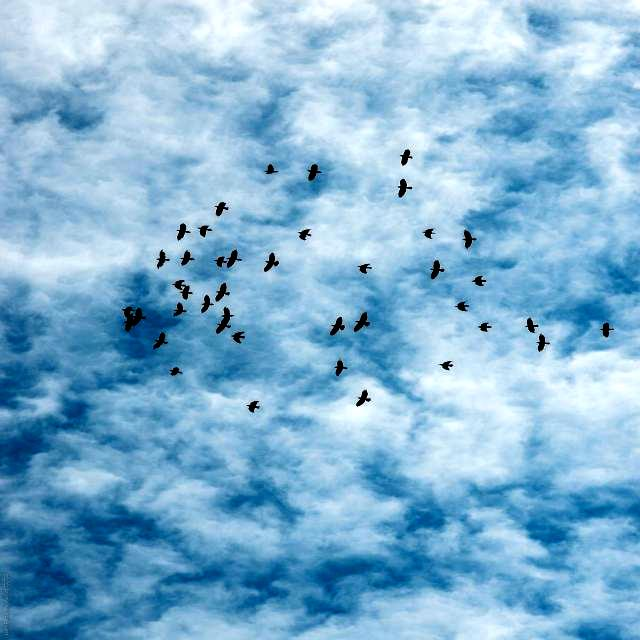bird: (294, 160, 330, 184), (349, 307, 376, 339), (206, 196, 244, 218), (226, 245, 248, 276), (595, 314, 617, 345), (348, 256, 381, 276), (454, 227, 480, 252), (422, 258, 447, 284), (242, 393, 270, 416), (260, 250, 284, 275), (390, 146, 416, 169), (165, 222, 194, 242), (396, 174, 418, 200), (328, 313, 347, 343), (290, 226, 321, 244), (133, 304, 155, 329), (352, 386, 373, 412), (192, 222, 219, 242), (329, 357, 350, 381), (468, 271, 491, 291), (518, 316, 542, 335), (256, 162, 284, 178), (215, 280, 233, 304), (432, 361, 463, 374), (178, 249, 198, 269), (151, 248, 169, 270), (420, 221, 439, 241), (534, 334, 553, 354), (197, 294, 214, 316), (230, 324, 247, 345), (153, 332, 171, 351), (167, 363, 184, 379), (180, 284, 193, 304), (454, 300, 472, 314), (172, 276, 186, 292), (476, 320, 492, 334), (216, 253, 227, 271)
